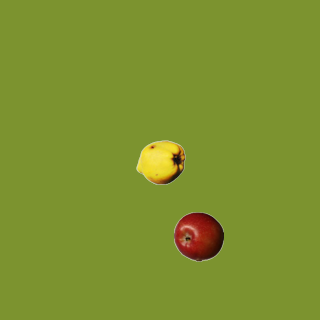Apple Braeburn: (173, 211, 223, 261)
Quince: (135, 137, 185, 187)
